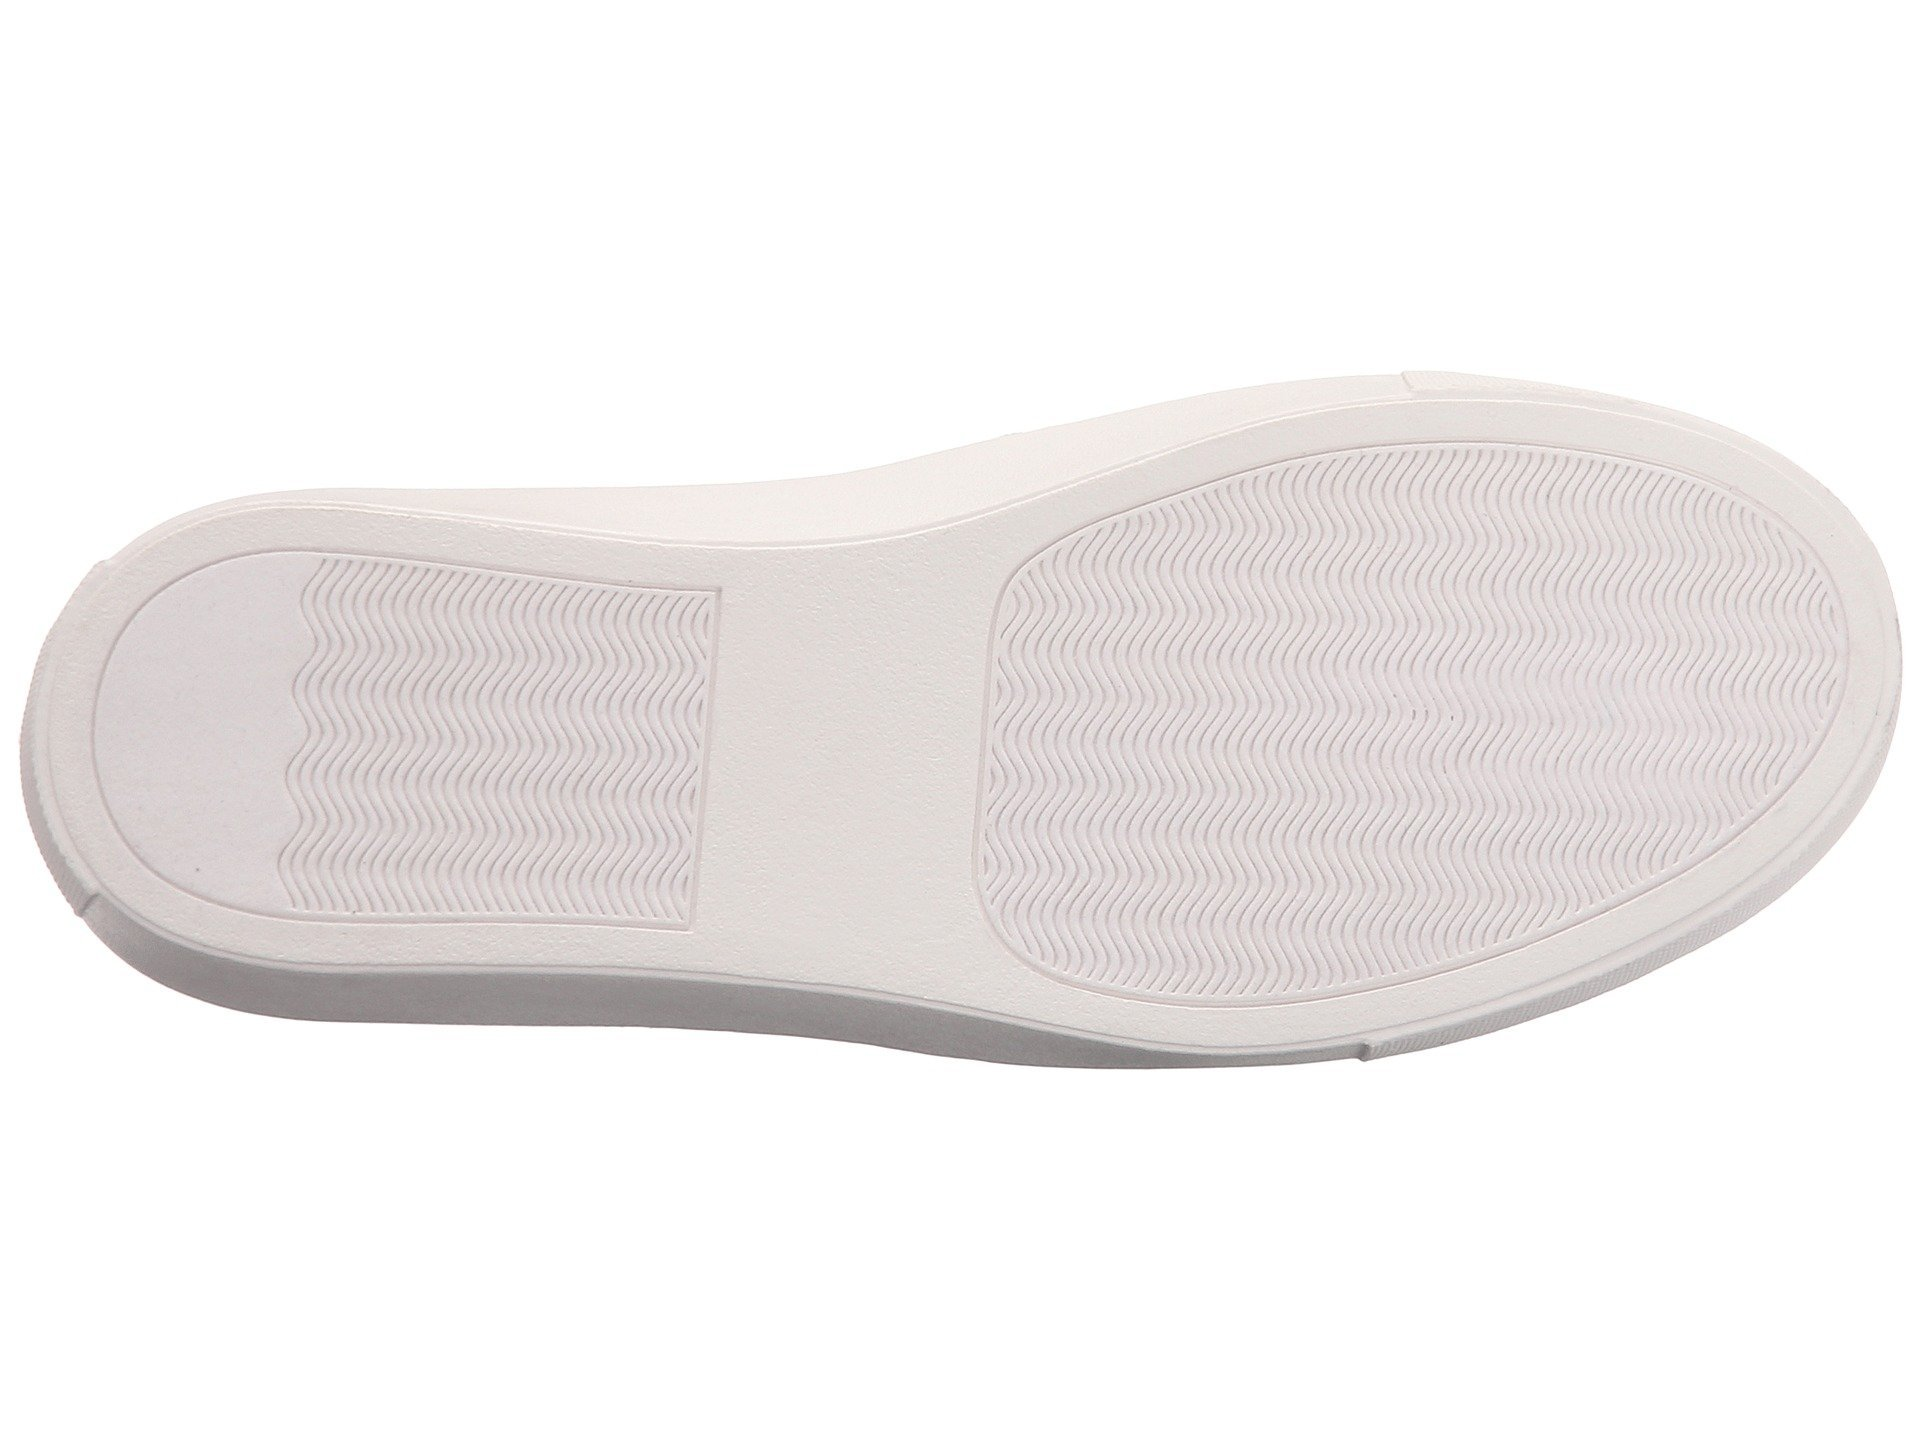chevron: (1141, 526, 1507, 944), (292, 561, 630, 917), (1494, 473, 1740, 761)
